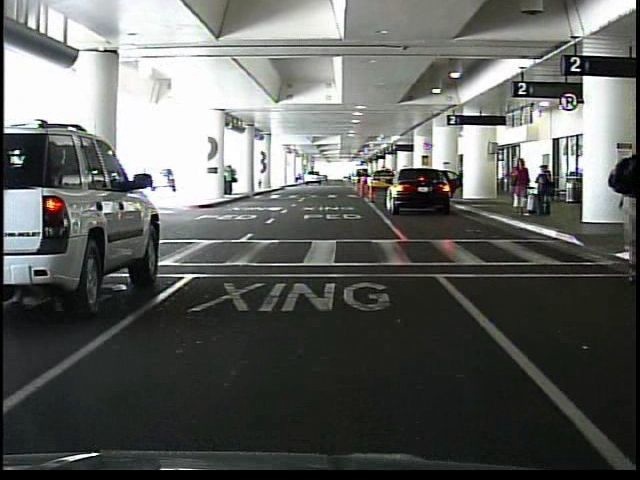person: (601, 135, 640, 271), (505, 156, 528, 213), (532, 163, 553, 217), (224, 163, 237, 197), (541, 164, 552, 199)
